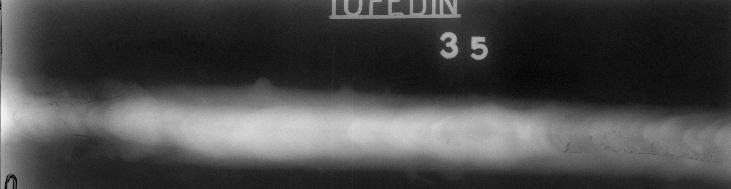FF: (40, 83, 132, 155)
FP: (534, 116, 730, 174)
TR: (16, 98, 134, 140)
